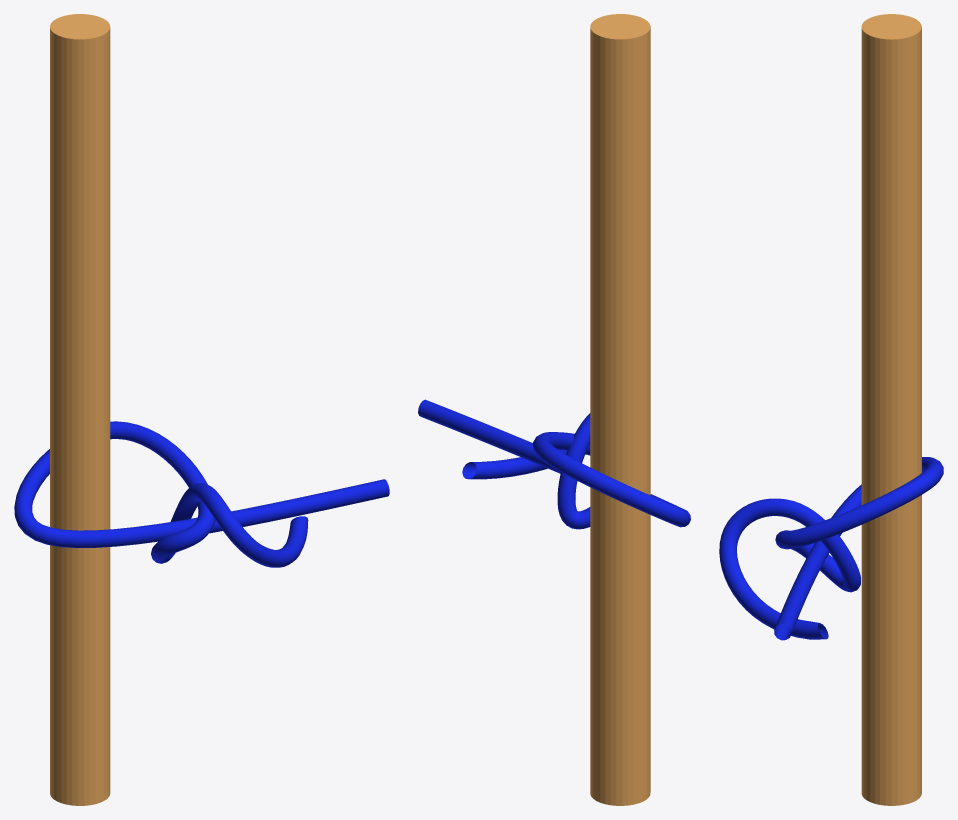
File: TwoHalfHitchState5.dae
The picture shows the model from 3 angles, left to right: view 1: azimuth 30°, elevation 25°; view 2: azimuth 150°, elevation 25°; view 3: azimuth 270°, elevation 25°; orthographic projection.
Visible parts, largest first — view 1: Cylinder, NurbsCurve.001; view 2: Cylinder, NurbsCurve.001; view 3: Cylinder, NurbsCurve.001.
Part boxes in pixels (bbox=[...]): Cylinder: bbox=[50, 14, 110, 805]; NurbsCurve.001: bbox=[14, 421, 389, 567]; Cylinder: bbox=[590, 14, 650, 805]; NurbsCurve.001: bbox=[418, 399, 690, 529]; Cylinder: bbox=[861, 14, 921, 805]; NurbsCurve.001: bbox=[719, 457, 943, 640].
Size of the model in its own units: 0.6055 by 0.3713 by 1.4.
